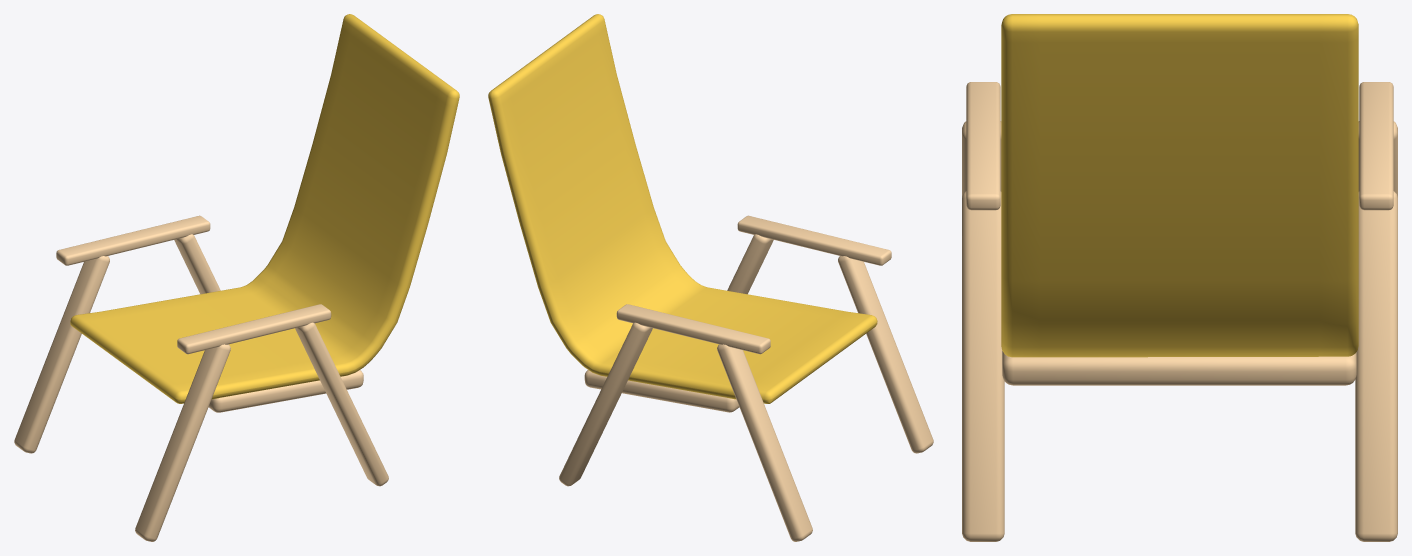
The model's file is Balcony Armchair04.fbx.
3 renders of one model, left to right at view 1: azimuth 30°, elevation 25°; view 2: azimuth 150°, elevation 25°; view 3: azimuth 270°, elevation 25°, orthographic. The views are drawn at different scales.
Visible parts, largest first — view 1: Balcony Armchair04; view 2: Balcony Armchair04; view 3: Balcony Armchair04.
Boxes of the visible parts, <box> form: Balcony Armchair04: <box>14,14,459,541</box>; Balcony Armchair04: <box>488,14,933,541</box>; Balcony Armchair04: <box>962,14,1397,541</box>.
Bounding box in the file's own units: 0.5247 × 0.3711 × 0.5586.
